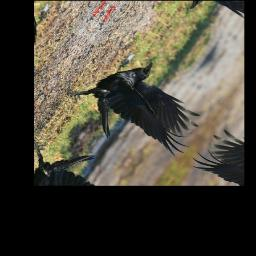Crow: (54, 34, 223, 175)
